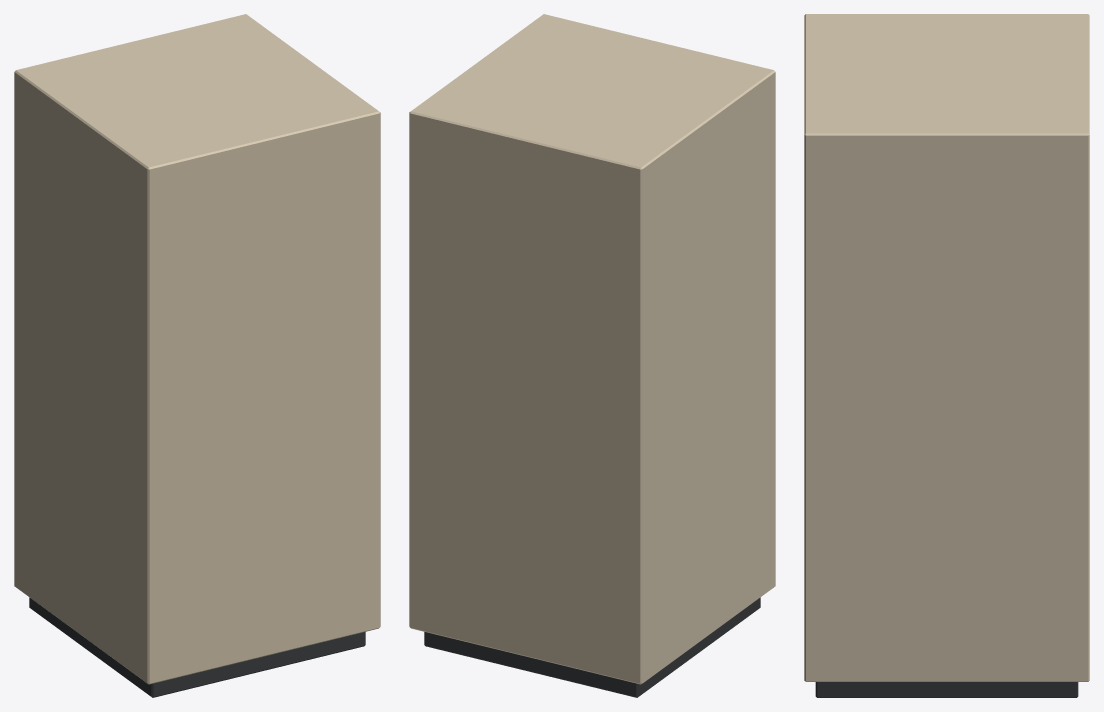
File: prop_plinth.glb
3 renders of one model, left to right at view 1: azimuth 30°, elevation 25°; view 2: azimuth 150°, elevation 25°; view 3: azimuth 270°, elevation 25°, orthographic. The views are drawn at different scales.
Parts seen in each view (by area): view 1: Plinth; view 2: Plinth; view 3: Plinth.
Part boxes in pixels (<box>): Plinth: <box>14,14,380,697</box>; Plinth: <box>409,14,775,697</box>; Plinth: <box>804,14,1089,697</box>.
Size of what is drawn, in the model's own units: 0.5 by 1.1 by 0.5.
